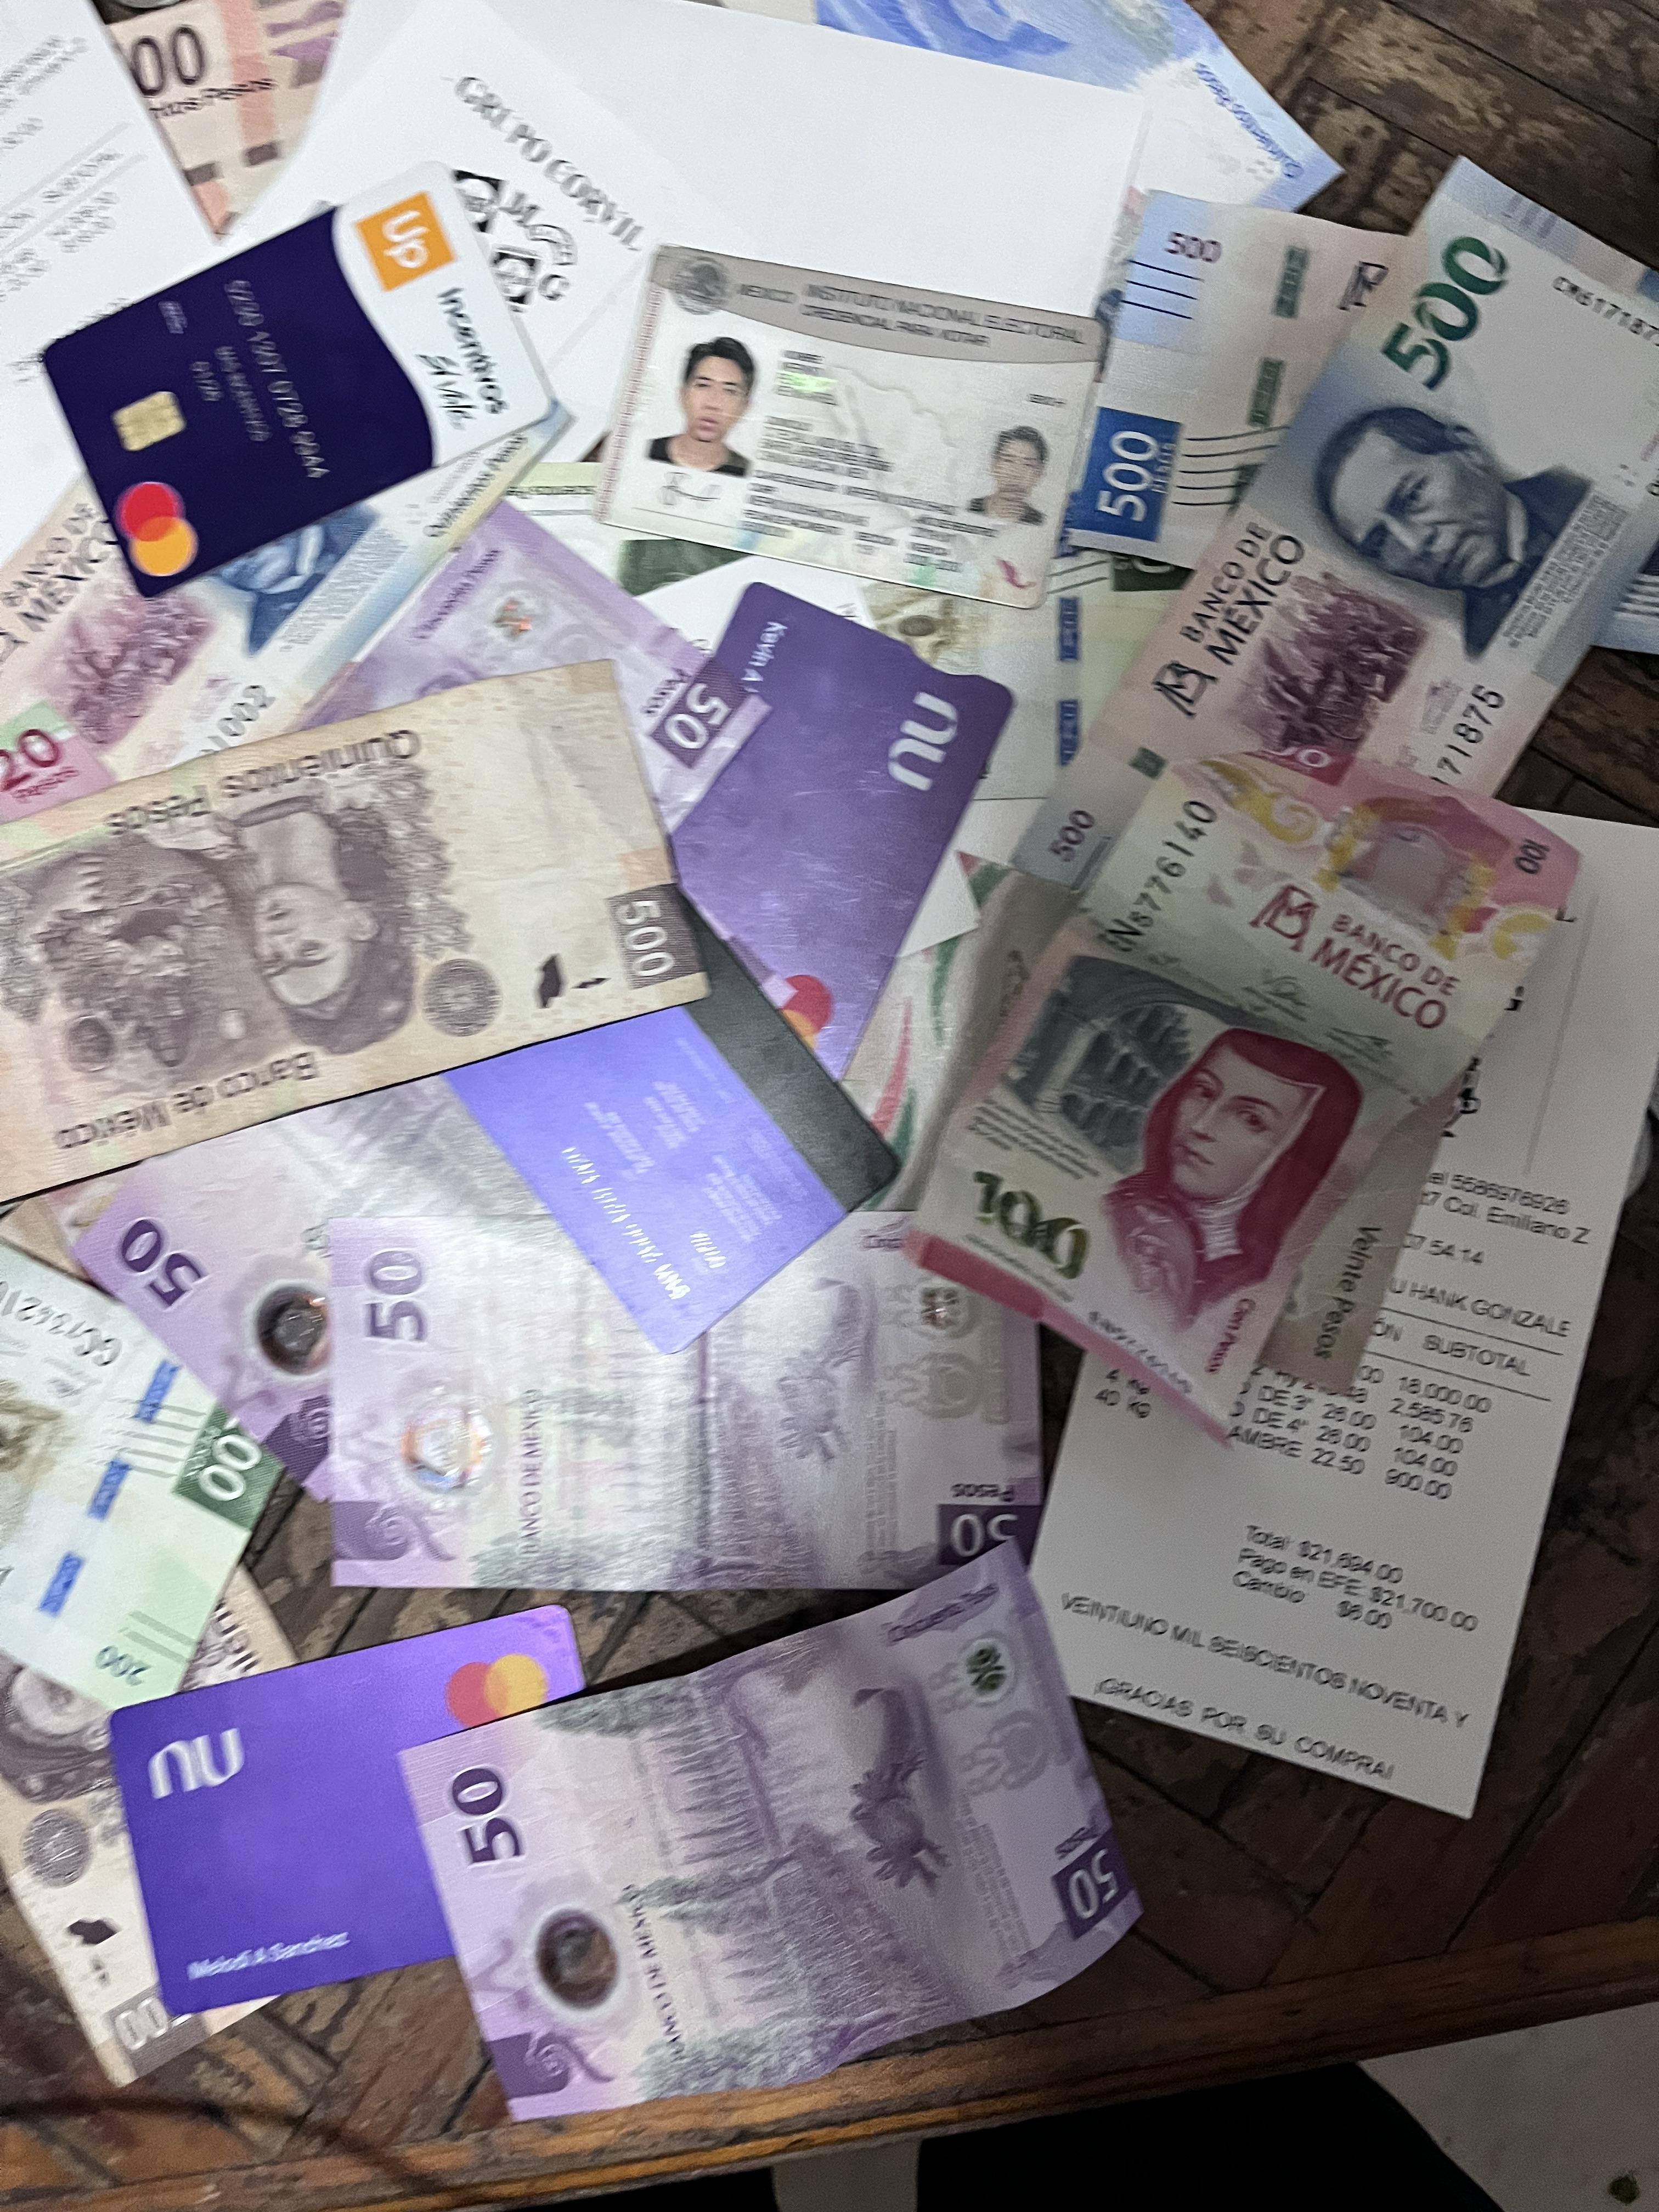100: (887, 700, 1584, 1463)
200: (0, 1212, 314, 1730)
50: (401, 1529, 1148, 2142), (307, 1198, 1066, 1602), (56, 1055, 577, 1494), (267, 484, 777, 860)
500: (0, 646, 728, 1238), (0, 1547, 436, 2106), (64, 0, 394, 232)
500 nuevo: (997, 139, 1659, 934), (1049, 183, 1659, 672), (0, 314, 591, 794)
